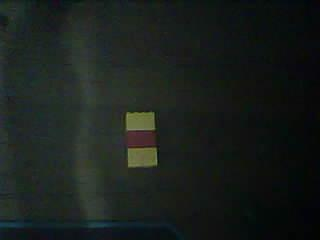lego: (125, 111, 158, 168)
